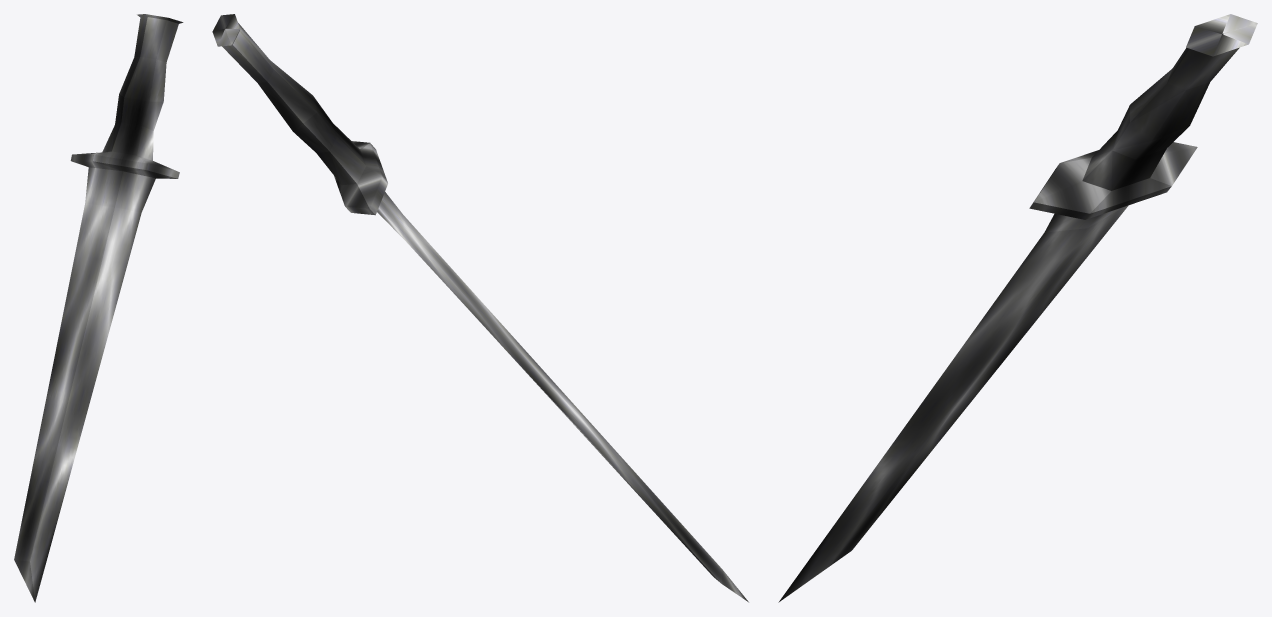
3 views of the same model, side by side, from view 1: azimuth 30°, elevation 25°; view 2: azimuth 150°, elevation 25°; view 3: azimuth 270°, elevation 25° (orthographic). The views are drawn at different scales.
Visible parts, largest first — view 1: J2; view 2: J2; view 3: J2.
Part boxes in pixels (bbox=[...]): J2: bbox=[14, 14, 183, 602]; J2: bbox=[212, 14, 748, 602]; J2: bbox=[778, 14, 1257, 602].
Size of the model in its own units: 1.46 by 2.35 by 1.28.
